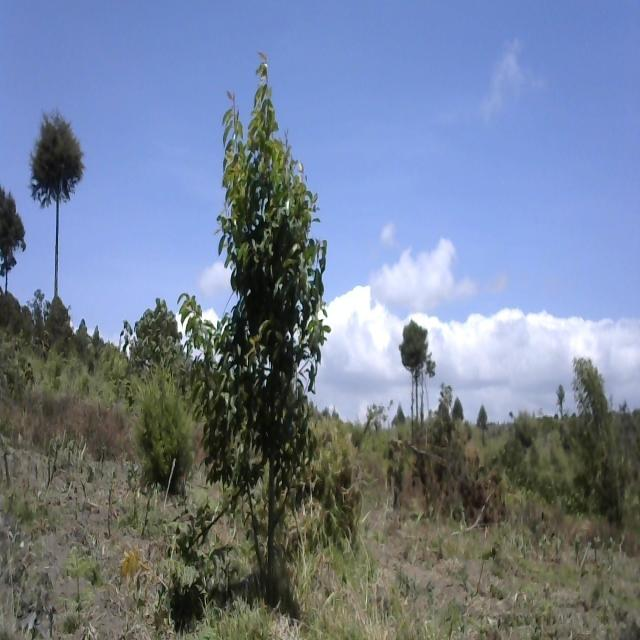Juniperus procesera: (23, 79, 89, 278), (119, 361, 192, 507), (396, 254, 435, 428)
Prunus Africana: (202, 42, 355, 610)
